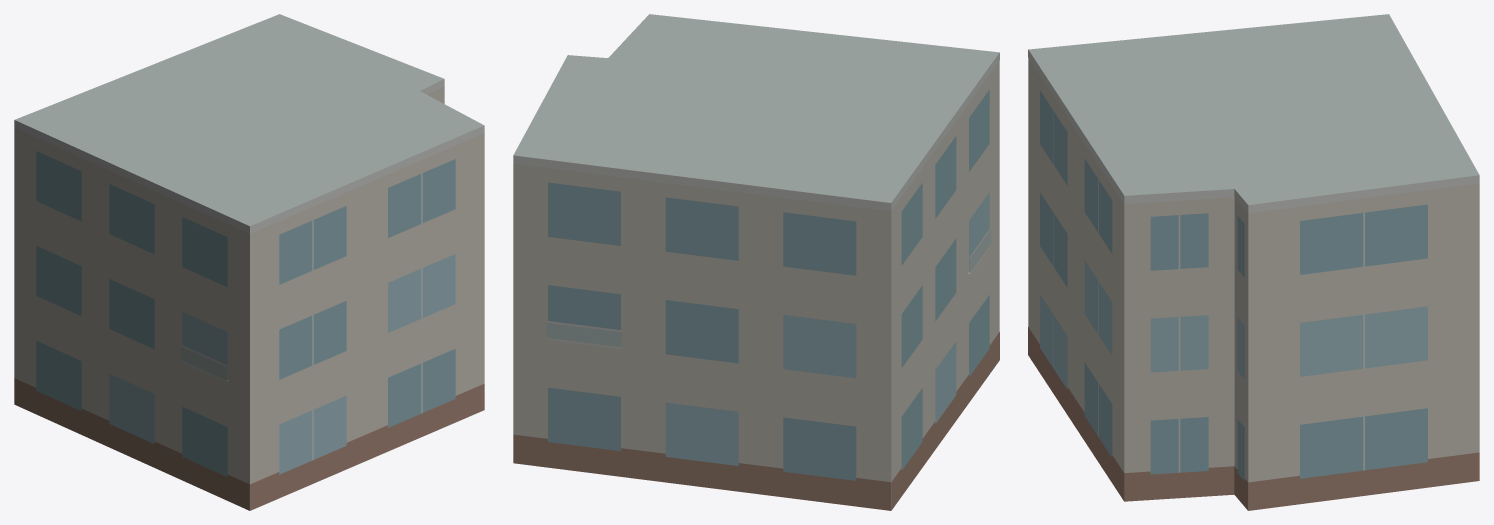
File: survey-upis-32651566.glb
The picture shows the model from 3 angles, left to right: view 1: azimuth 30°, elevation 25°; view 2: azimuth 150°, elevation 25°; view 3: azimuth 270°, elevation 25°; orthographic projection. The views are drawn at different scales.
Parts seen in each view (by area): view 1: survey-upis-32651566.tmp; view 2: survey-upis-32651566.tmp; view 3: survey-upis-32651566.tmp.
Boxes of the visible parts, x1,y1,x2,y2 form: survey-upis-32651566.tmp: (14,14,484,510); survey-upis-32651566.tmp: (513,14,999,510); survey-upis-32651566.tmp: (1028,14,1479,510).
Size of the model in its own units: 12.21 by 9.1 by 12.19.
